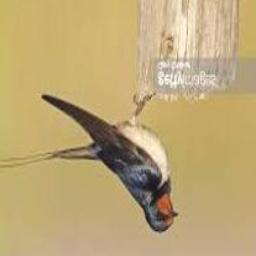Swallow: (0, 95, 178, 234)
